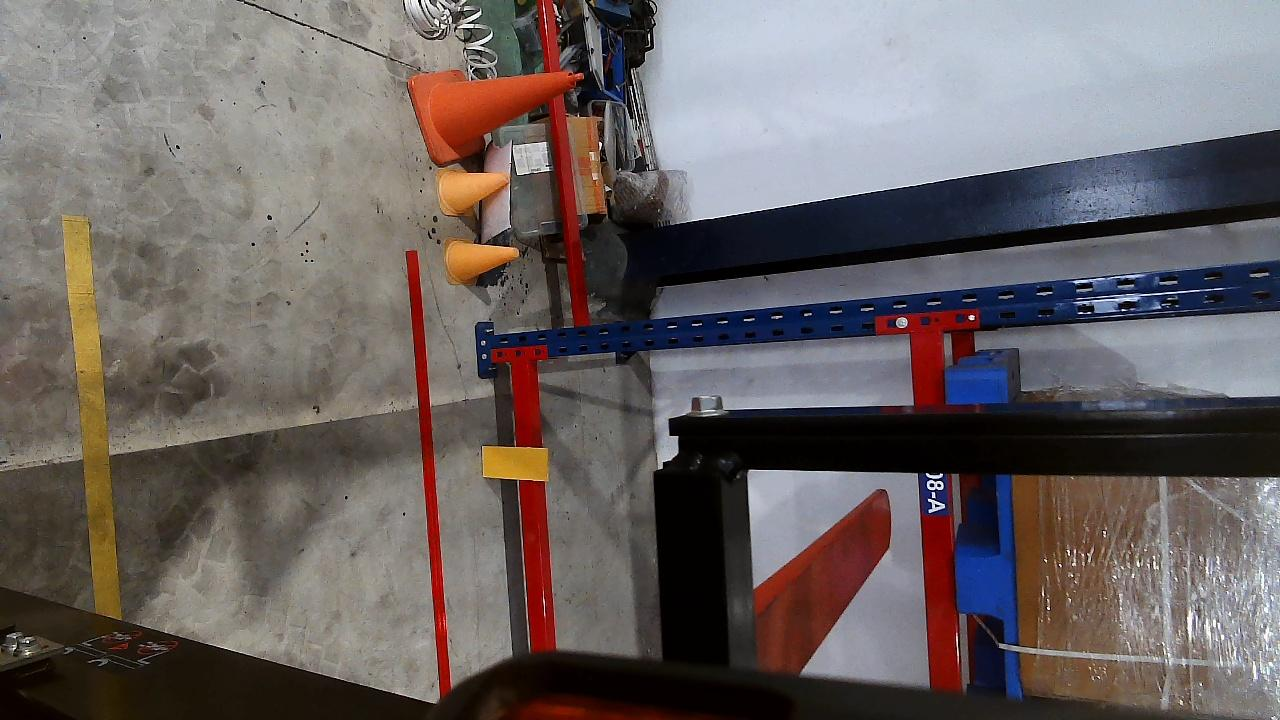h_rack: (907, 328, 961, 689), (507, 357, 554, 650)
orange_strip: (480, 446, 548, 480)
red_line: (409, 249, 452, 692)
small_pallet: (946, 370, 1018, 695)
yellow_line: (60, 216, 118, 618)
